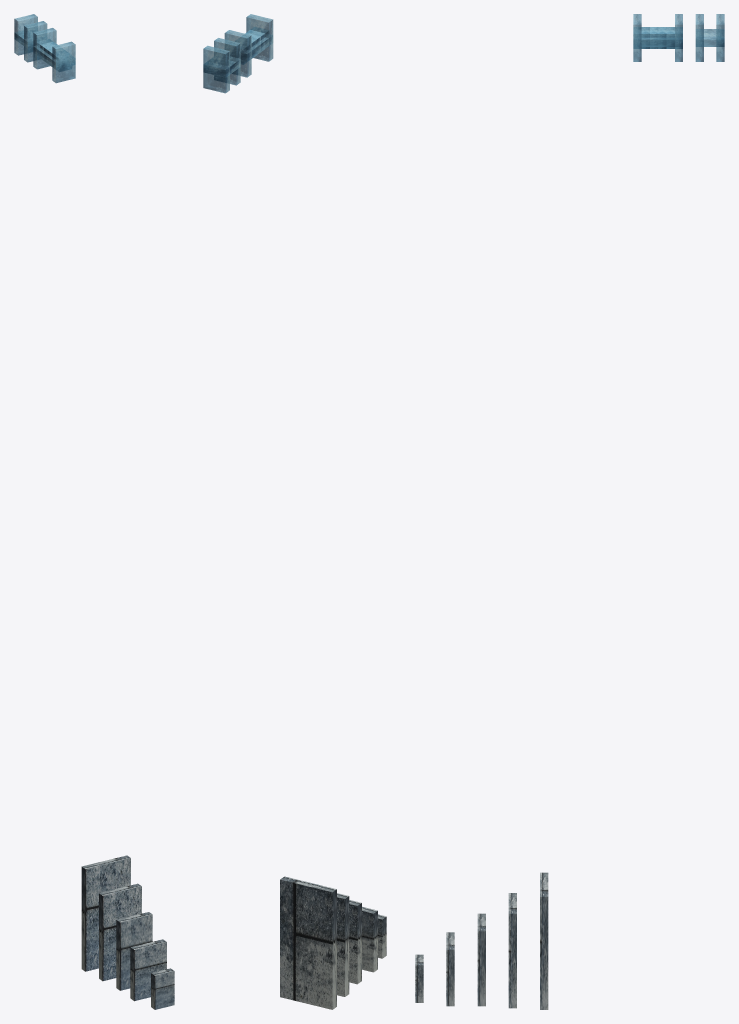
File: DominoAnime.glb
3 renders of one model, left to right at view 1: azimuth 30°, elevation 25°; view 2: azimuth 150°, elevation 25°; view 3: azimuth 270°, elevation 25°, orthographic. The views are drawn at different scales.
Parts seen in each view (by area): view 1: Cube.004, Cube.003, Cube.002, Cube.001, Cube, Cube.006, Cube.010, Cube.005, Cube.007, Cube.008; view 2: Cube.004, Cube.003, Cube.010, Cube.002, Cube.001, Cube.005, Cube.006, Cube.007, Cube.009; view 3: Cube.004, Cube.003, Cube.002.
Boxes of the visible parts, bbox=[...] form: Cube.004: bbox=[81, 855, 130, 971]; Cube.003: bbox=[99, 883, 141, 981]; Cube.002: bbox=[116, 912, 152, 990]; Cube.001: bbox=[130, 939, 166, 1001]; Cube: bbox=[151, 968, 174, 1009]; Cube.006: bbox=[52, 41, 75, 83]; Cube.010: bbox=[14, 14, 37, 55]; Cube.005: bbox=[24, 21, 47, 62]; Cube.007: bbox=[33, 28, 56, 69]; Cube.008: bbox=[33, 46, 75, 69]; Cube.004: bbox=[280, 876, 336, 1009]; Cube.003: bbox=[337, 893, 349, 996]; Cube.010: bbox=[203, 45, 229, 93]; Cube.002: bbox=[349, 900, 361, 984]; Cube.001: bbox=[362, 906, 377, 972]; Cube.005: bbox=[214, 38, 240, 85]; Cube.006: bbox=[246, 14, 273, 61]; Cube.007: bbox=[224, 30, 251, 77]; Cube.009: bbox=[203, 56, 240, 77]; Cube.004: bbox=[540, 872, 548, 1009]; Cube.003: bbox=[508, 893, 516, 1008]; Cube.002: bbox=[477, 913, 485, 1006].
Bounding box in the file's own units: 2.8 × 52 × 14.9.
8 materials, 8 textured.
